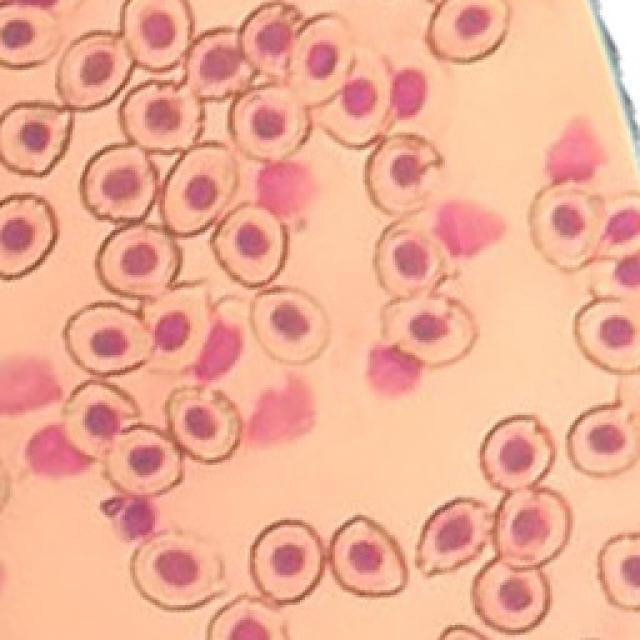RBC: (315, 48, 392, 148), (131, 532, 224, 610), (161, 144, 236, 235), (382, 296, 476, 366), (64, 302, 151, 374), (212, 204, 288, 286), (530, 185, 602, 270), (62, 380, 139, 459), (366, 134, 442, 214), (98, 224, 180, 298), (495, 489, 571, 568), (142, 285, 211, 372), (331, 516, 406, 596), (230, 85, 310, 160), (251, 288, 329, 364), (290, 14, 354, 106), (251, 520, 322, 602), (375, 220, 449, 298), (81, 145, 156, 221), (472, 559, 550, 632), (121, 81, 201, 152), (480, 415, 555, 490), (59, 32, 132, 109), (418, 499, 490, 574), (105, 425, 181, 496), (168, 388, 241, 461), (568, 402, 640, 476), (0, 104, 71, 175), (429, 0, 509, 61), (0, 195, 58, 279), (122, 0, 192, 69), (575, 299, 640, 373), (240, 2, 301, 79), (188, 29, 254, 99), (0, 6, 59, 67), (208, 596, 289, 640), (599, 533, 640, 609)
WBC: (435, 201, 504, 256), (546, 121, 604, 184), (0, 358, 61, 413), (26, 425, 91, 476), (258, 162, 314, 216), (195, 320, 242, 381), (368, 344, 422, 395), (101, 496, 156, 539), (392, 69, 428, 118), (606, 209, 640, 242), (615, 252, 640, 288)
